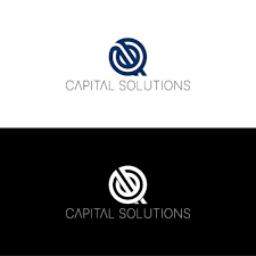a: (74, 80, 82, 90)
c: (64, 78, 74, 92)
i: (90, 80, 92, 92)
l: (109, 80, 115, 94)
n: (173, 80, 183, 90)
o: (126, 80, 136, 92)
p: (82, 78, 90, 92)
s: (118, 80, 126, 92)
t: (94, 78, 100, 92)
u: (144, 80, 152, 92)
